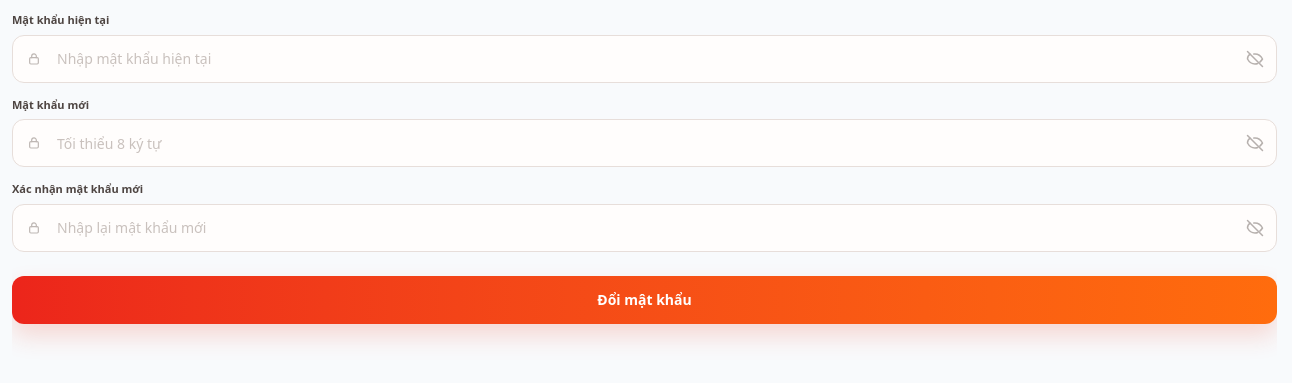
Test: ChangePasswordForm › hiển thị lỗi BE sai mật khẩu ở ô mật khẩu hiện tại
Type "wrong-password" into the password field labelled "Mật khẩu hiện tại" at (644,58), box [12,34,1277,82]
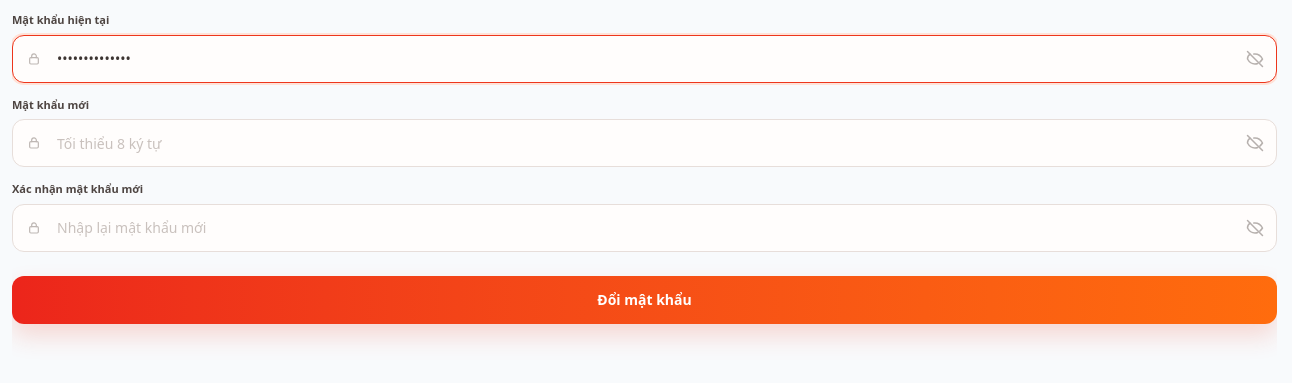
Type "new-password-123" into the password field labelled "Mật khẩu mới" at (644,143), box [12,119,1277,167]
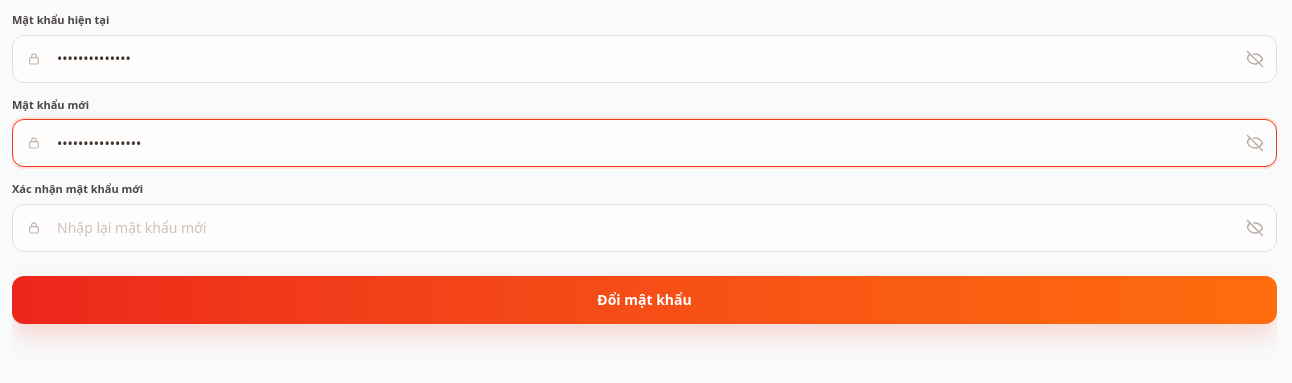
Type "new-password-123" into the password field labelled "Xác nhận mật khẩu mới" at (644,228), box [12,204,1277,252]
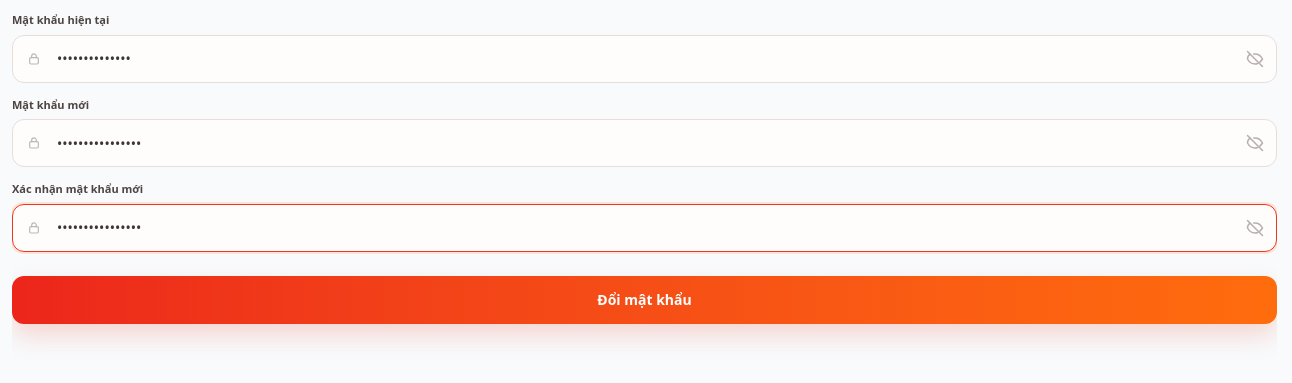
Click the button "Đổi mật khẩu" at (644,300), box [12,276,1277,324]
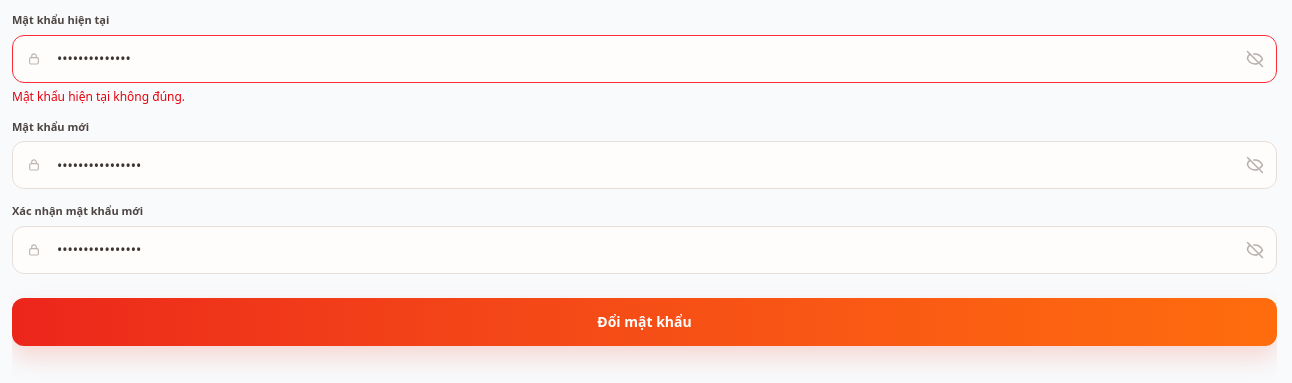
expect the text "Mật khẩu hiện tại không đúng." is shown: met, box [12,88,185,104]
